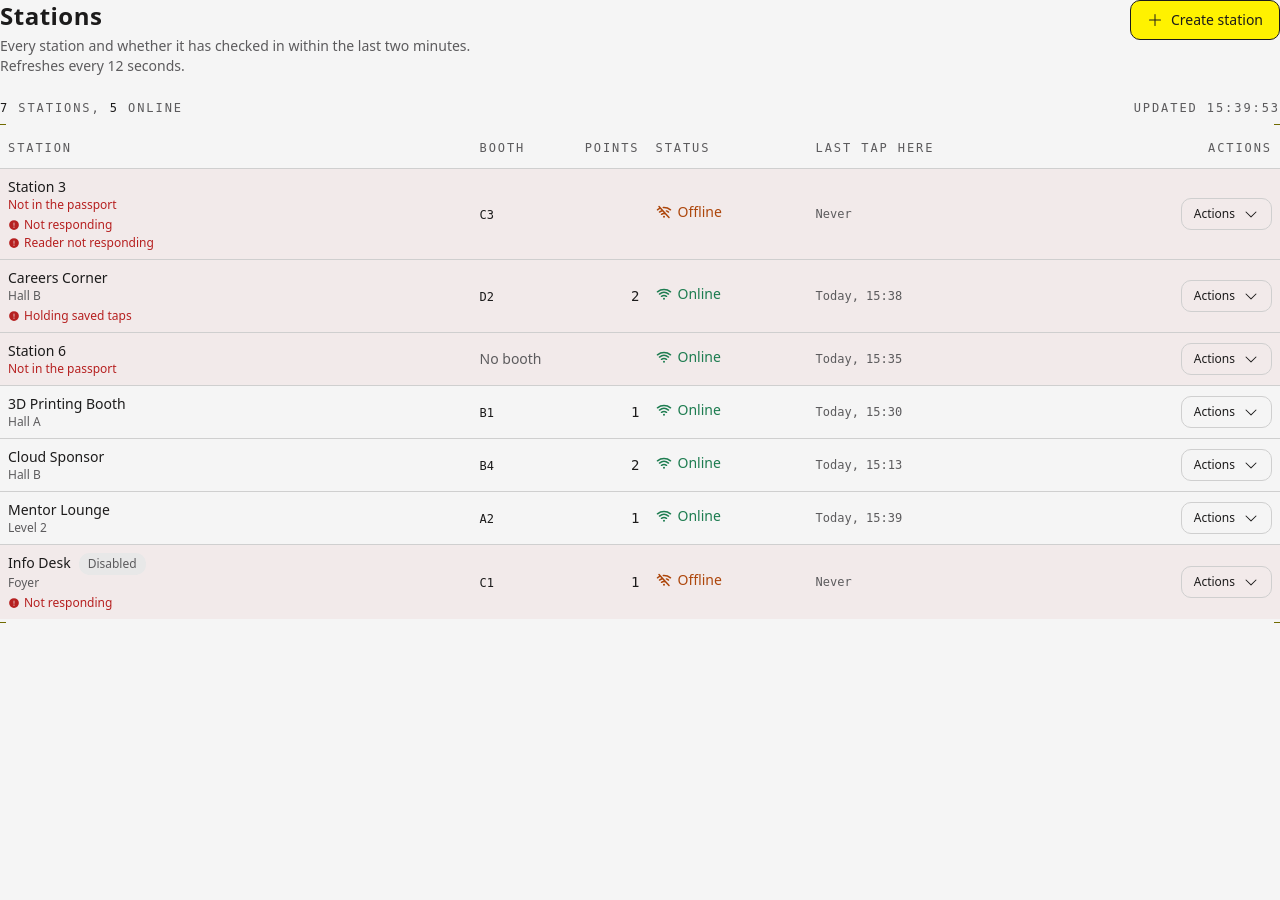
a station board dialog returns focus to its row (FRO-99) › puts it back after a disable, on the button whose menu now offers Enable
The width and height of the screenshot is (1280, 900).
Click the button "Actions" in the row of "3D Printing Booth" at [1226, 412], box [1181,396,1272,428]
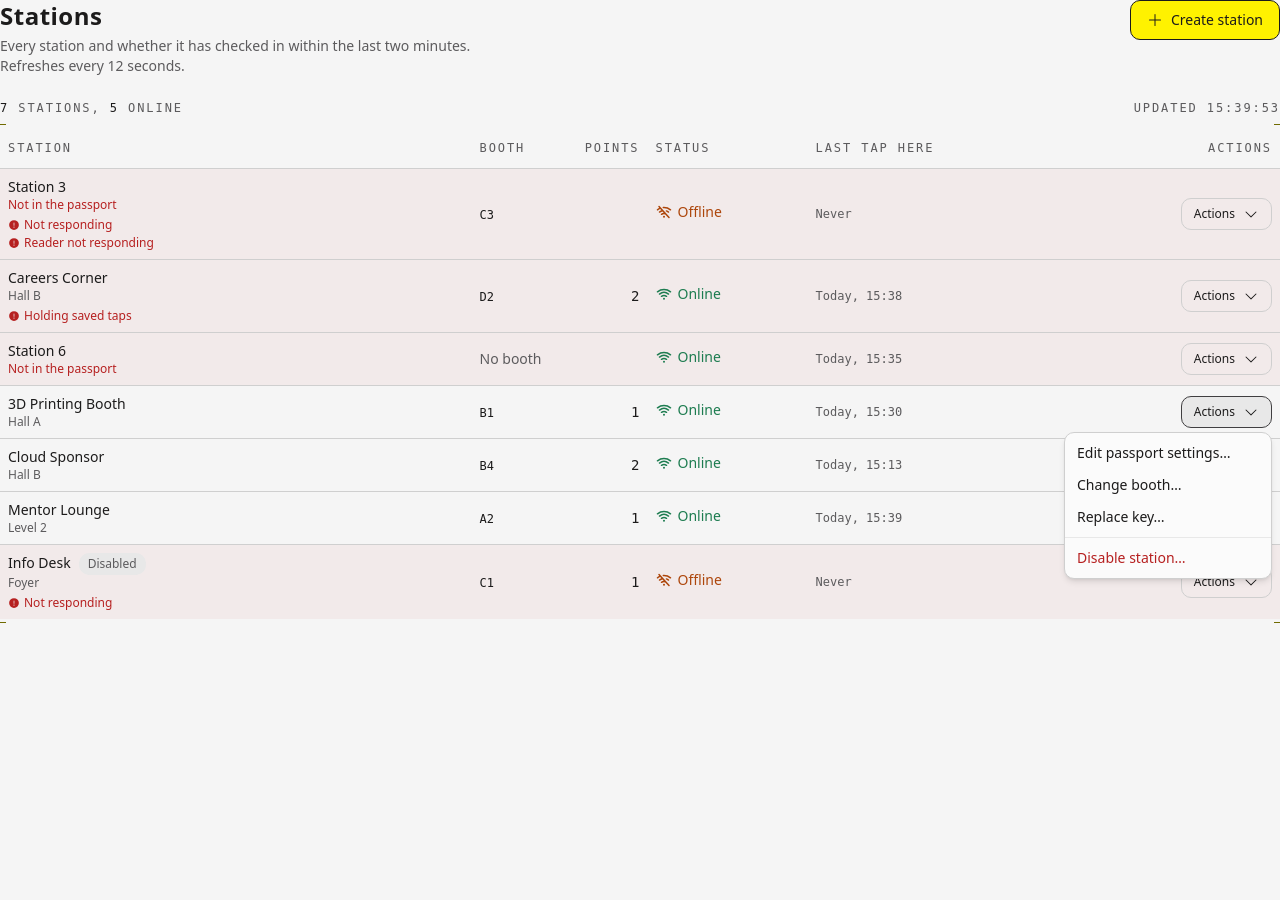
Expected: the menu is shown, [1064,432,1272,579]
Click the menu item "Disable station…" at [1131, 558], box [1077,548,1186,567]
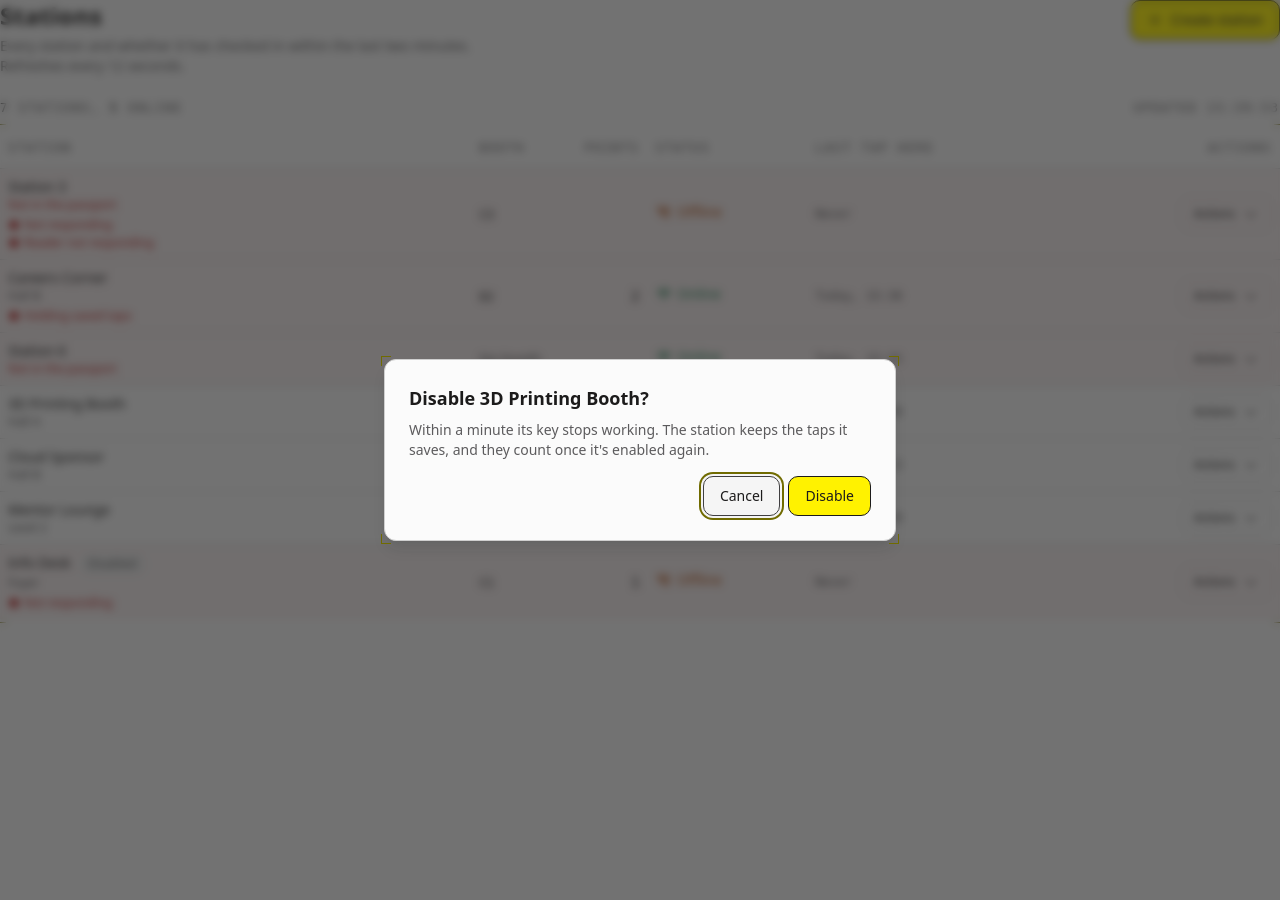
Click the button "Disable" at [830, 496], box [788,476,871,516]
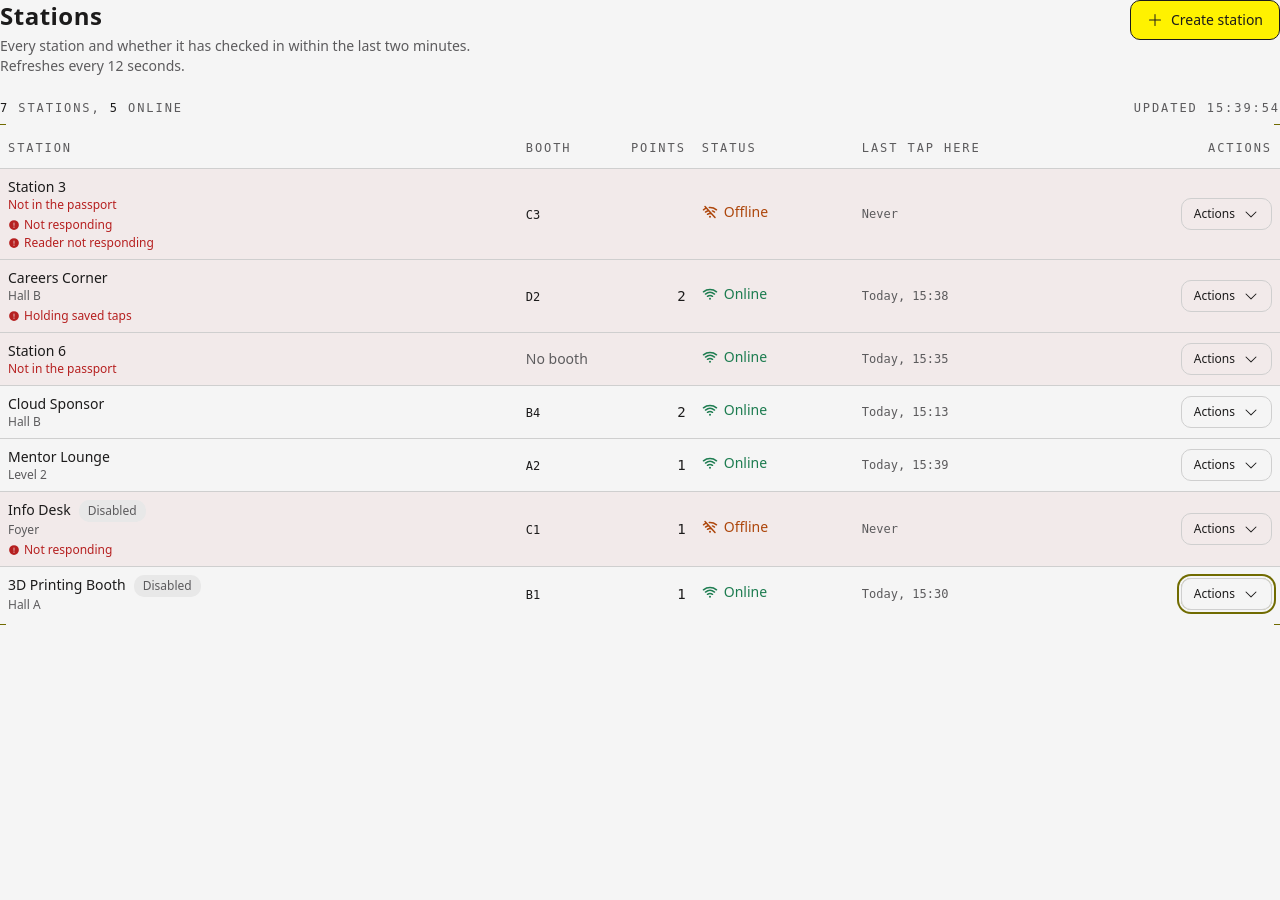
Click the button "Actions" in the row of "3D Printing Booth" at [1226, 594], box [1181,578,1272,610]
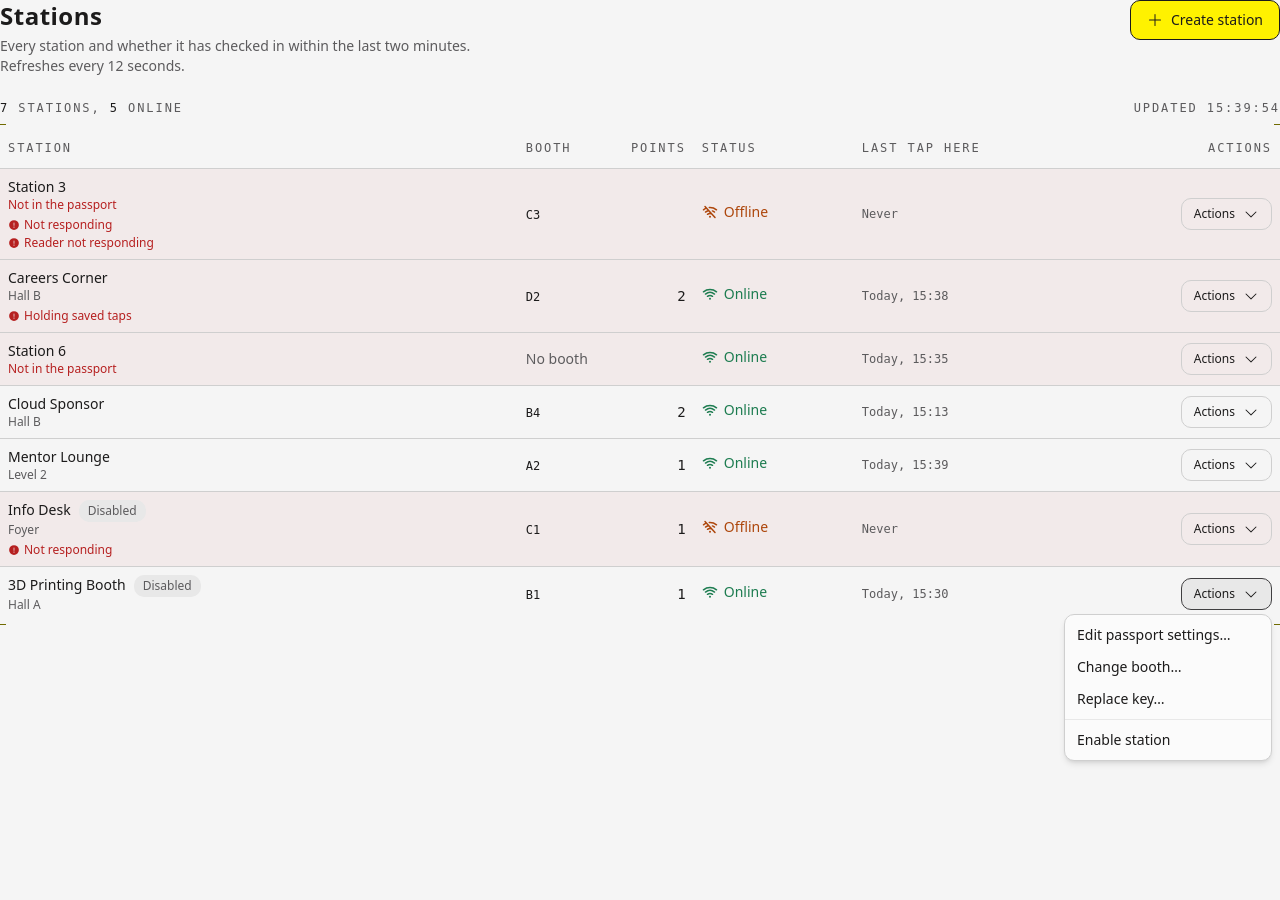
Expected: the menu is shown, [1064,614,1272,761]
Expected: the menu item "Enable station" is shown, [1077,730,1170,749]
